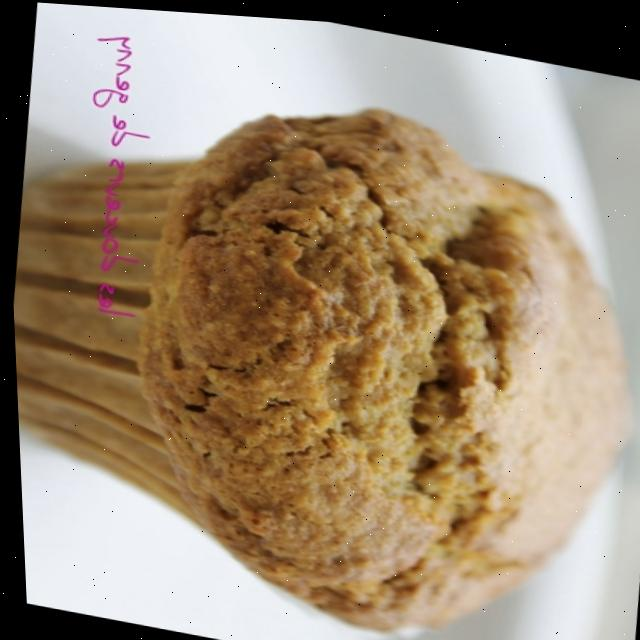炸货点心: (0, 13, 640, 640)
面包点心: (0, 13, 640, 640)
